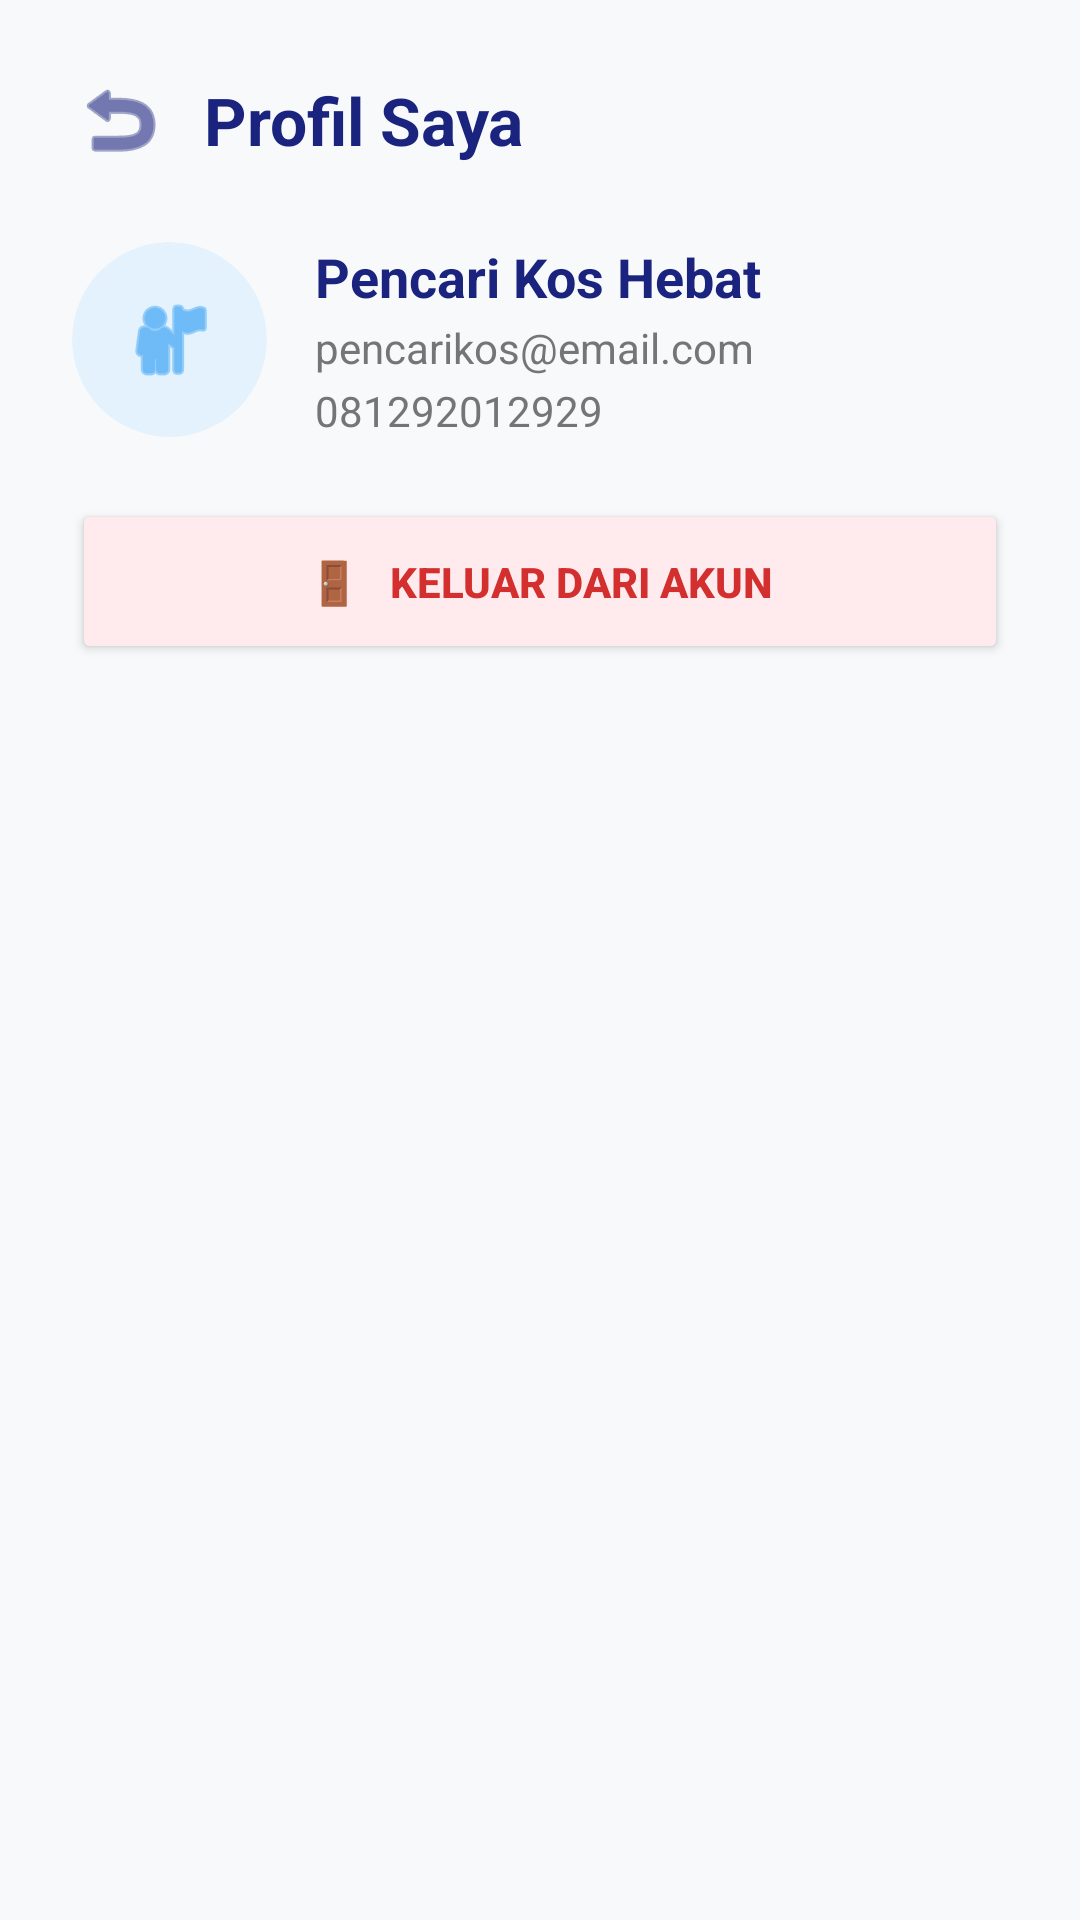

Screen size 1080x1920. Icon name, then its box in pixels as region(x1, y1, x2, y2):
myplaces: region(135, 304, 207, 376)
revert: region(87, 89, 156, 152)
